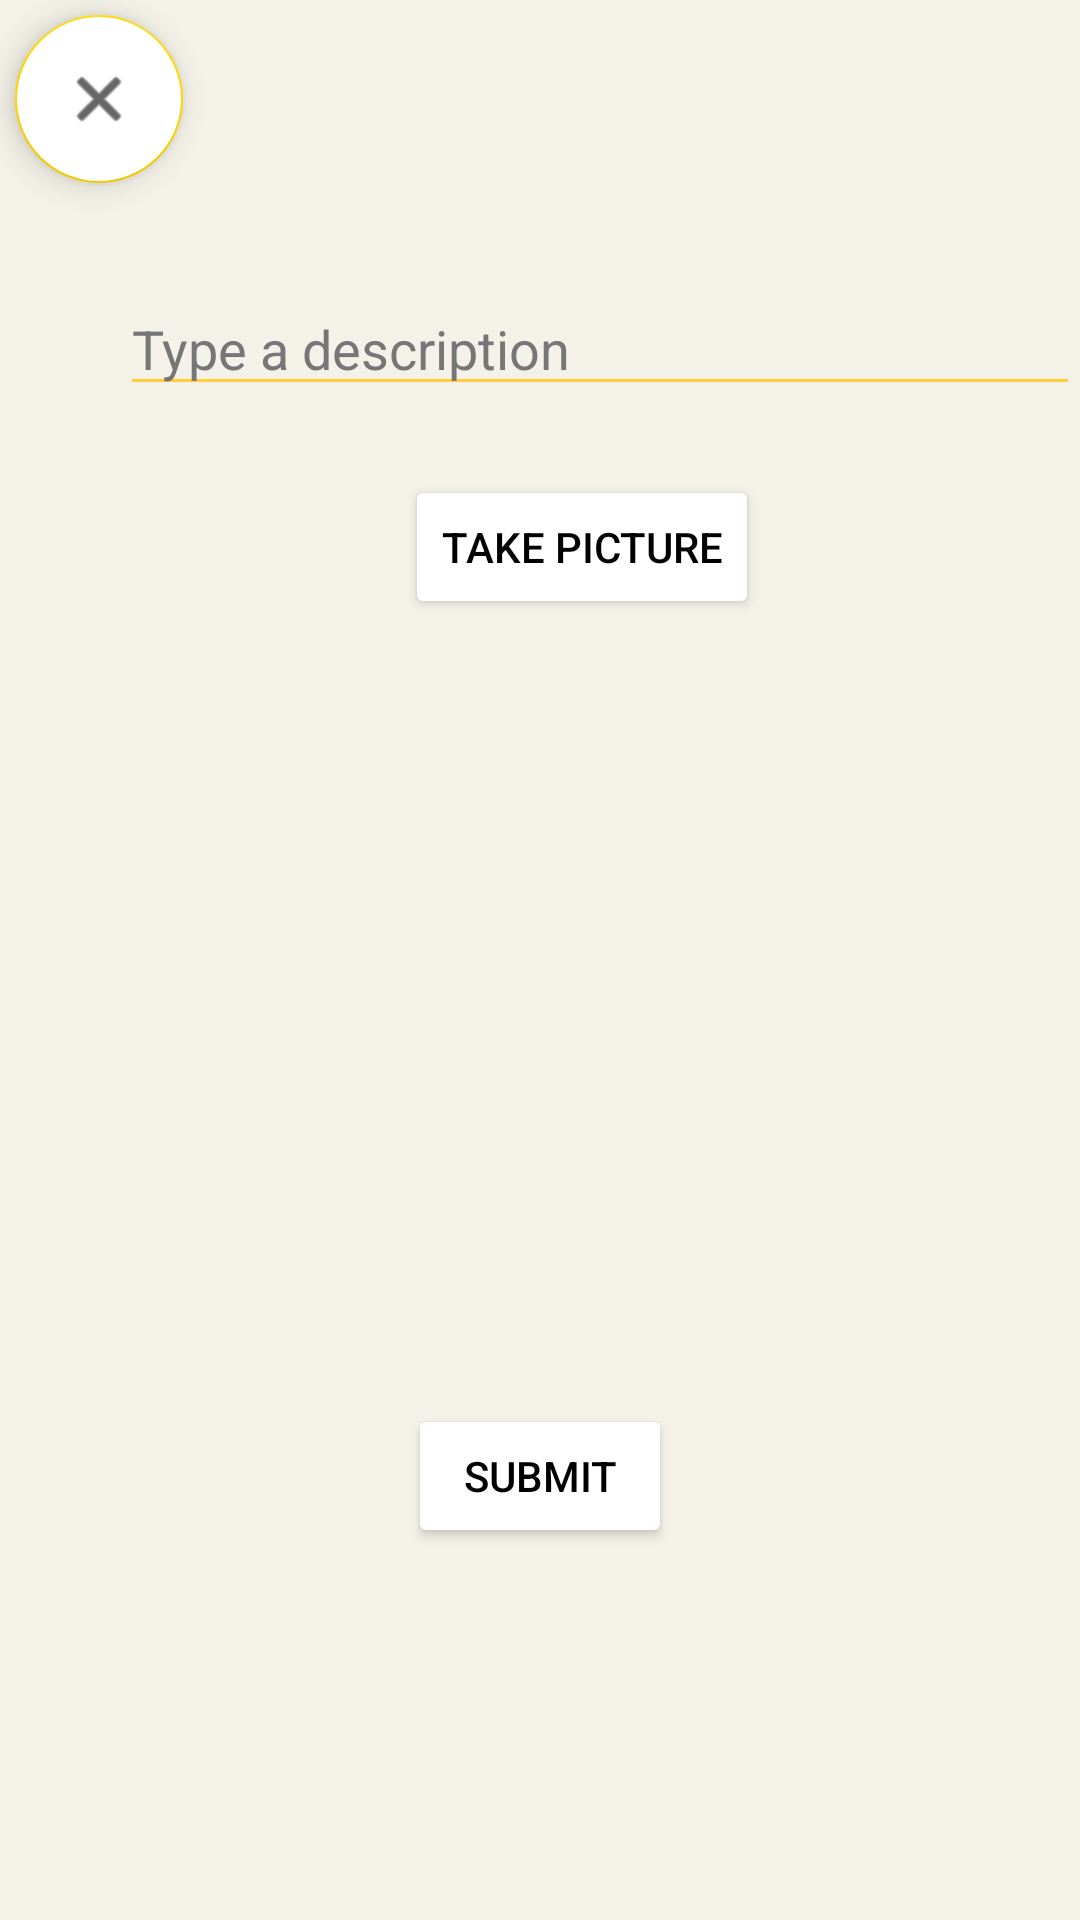

Icon click points for this 1080 x 1920 phone screenshot, format point (x, y):
close clear cancel: point (99, 99)
